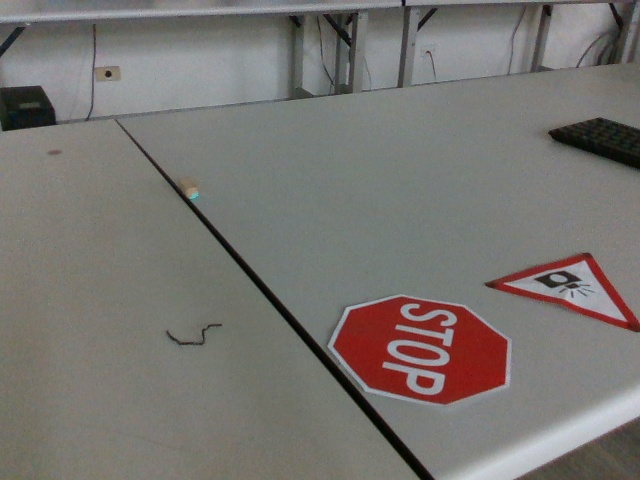camera: (486, 251, 640, 336)
stop: (330, 292, 515, 404)
